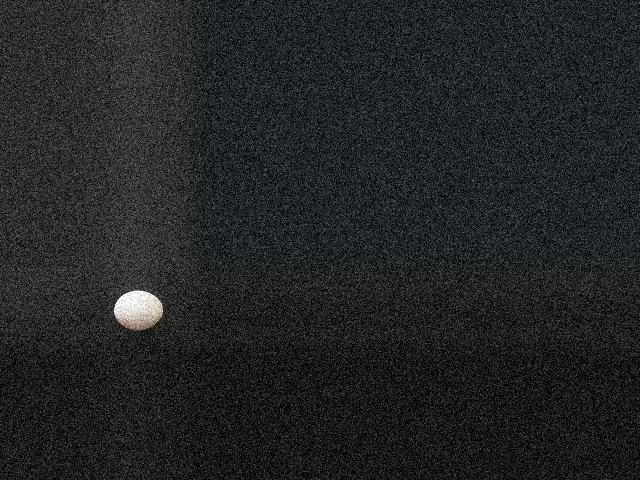egg: (115, 290, 164, 330)
